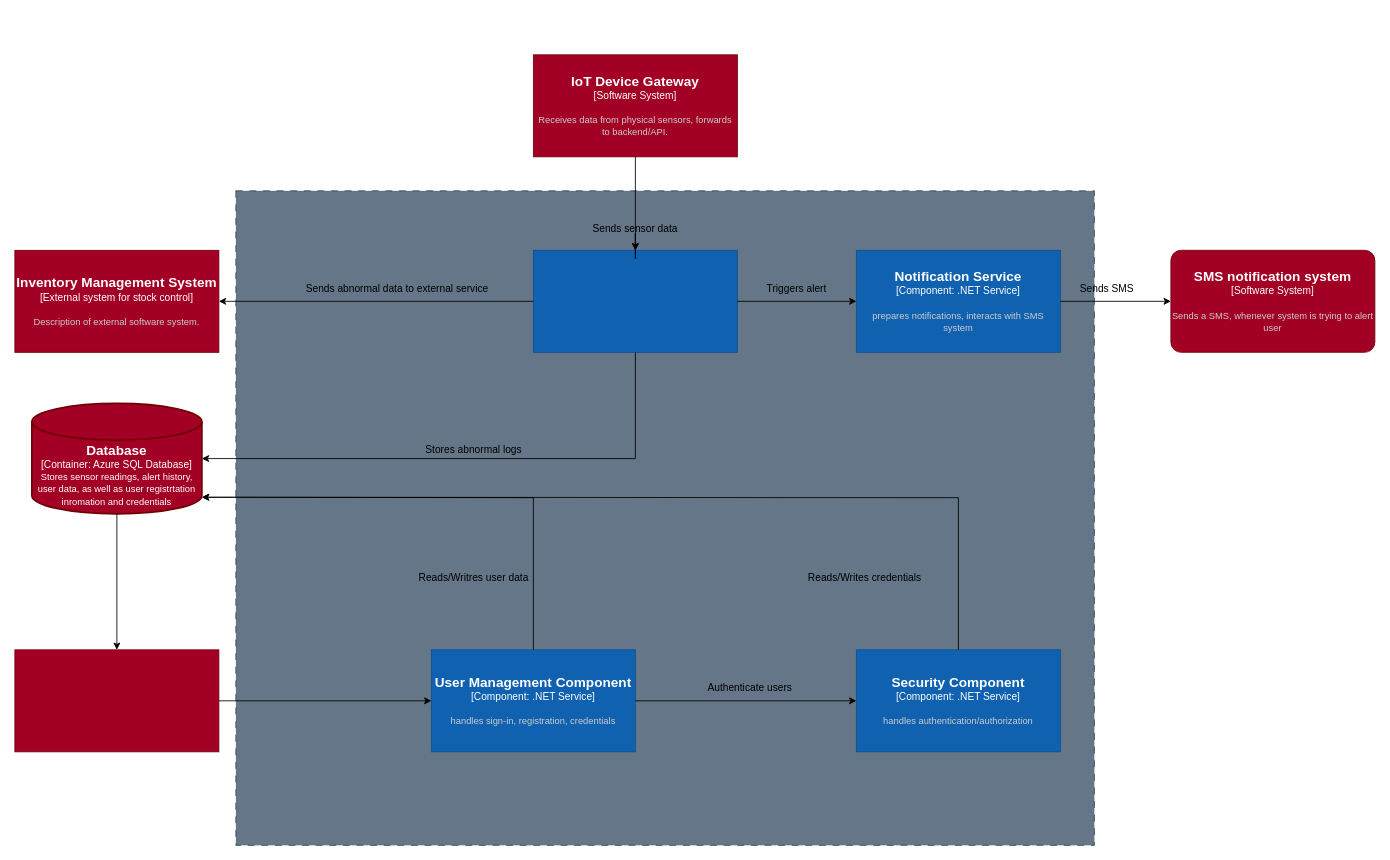
Image size: 1390x860. Some labels were removed from this diagram. Here are the shapes that lost their labels. From the top down, the centre of each, then its label:
point 635,300: Danger Data Handler [Component: .NET Service] processes abnormal sensor data
point 116,700: Dashboard Controller [Container: Web Application] serves dashboard data
